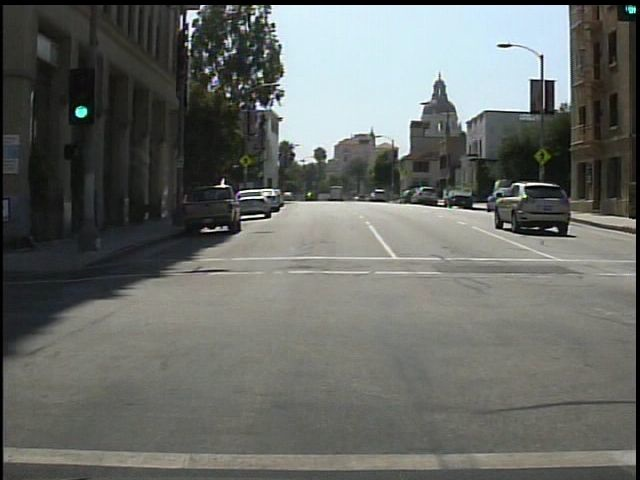person: (3, 161, 11, 263)
